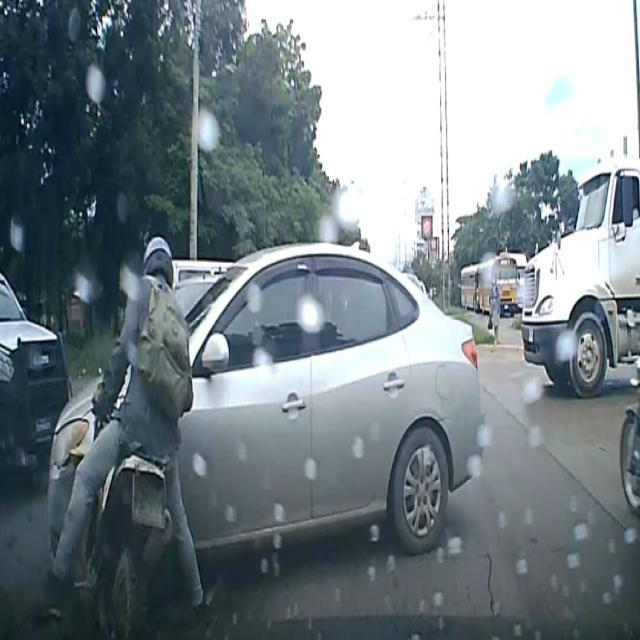accident: (51, 238, 482, 640)
non-accident: (460, 248, 530, 318)
